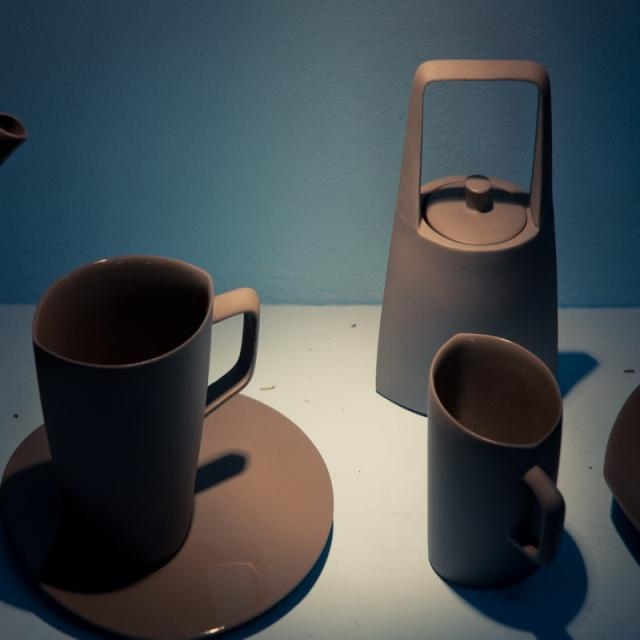Cup: (9, 261, 305, 640), (428, 324, 586, 596)
Table: (0, 242, 640, 640)
